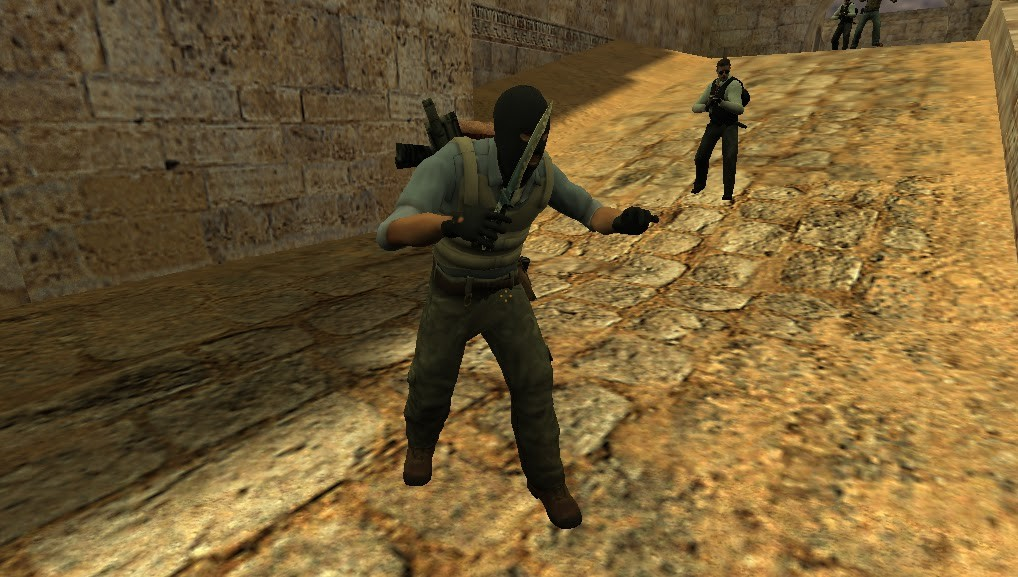t: (370, 81, 602, 520)
th: (486, 83, 559, 176)
